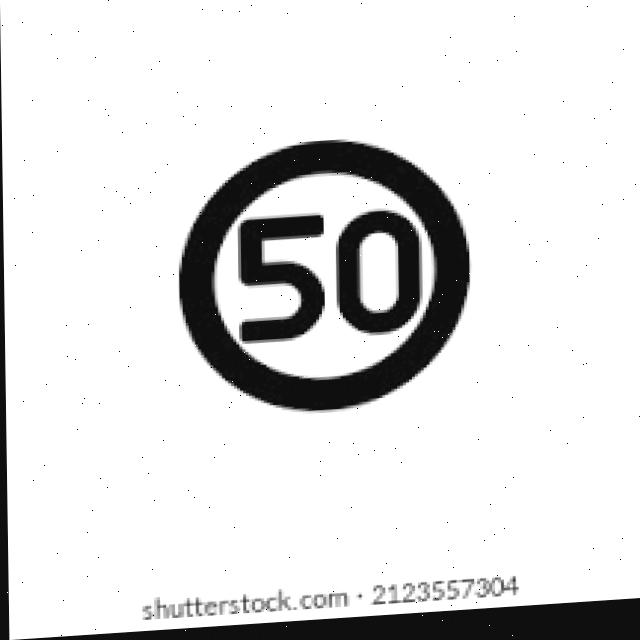Speed limit 50: (172, 130, 477, 426)
